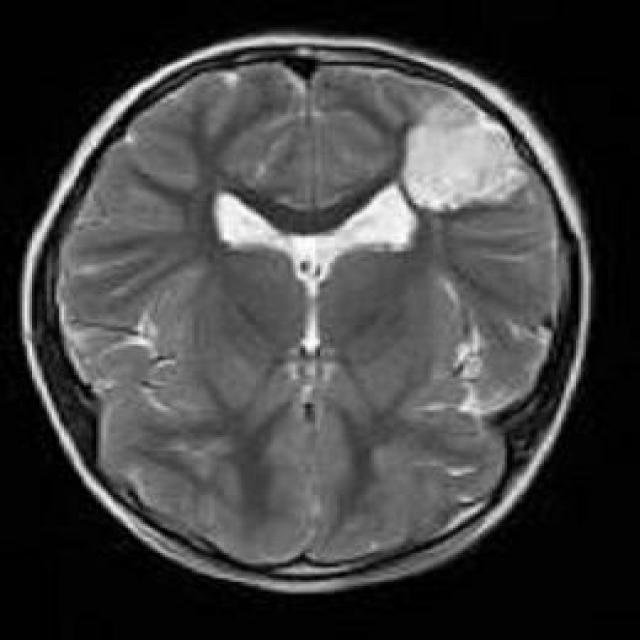Tumor-Cell: (382, 91, 538, 238)
